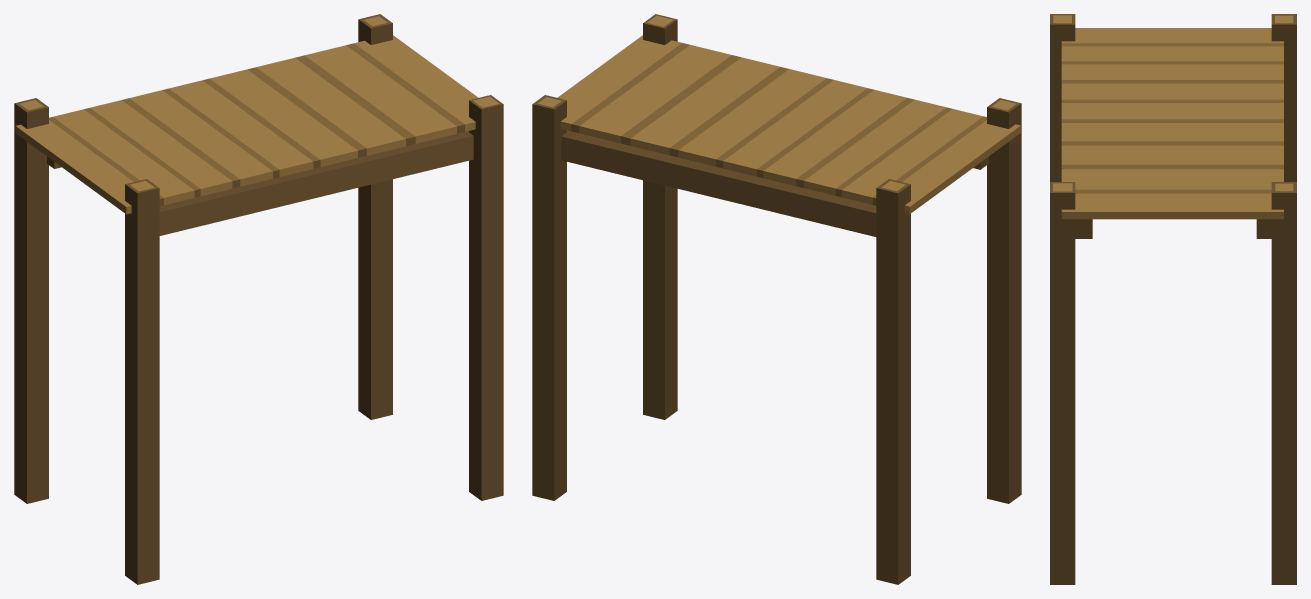
Rendered from Walkway_01.fbx.
3 renders of one model, left to right at view 1: azimuth 30°, elevation 25°; view 2: azimuth 150°, elevation 25°; view 3: azimuth 270°, elevation 25°, orthographic.
Parts seen in each view (by area): view 1: Walkway_01; view 2: Walkway_01; view 3: Walkway_01.
Part boxes in pixels (bbox=[...]): Walkway_01: bbox=[14, 14, 503, 584]; Walkway_01: bbox=[532, 14, 1021, 584]; Walkway_01: bbox=[1050, 14, 1296, 584].
Size of the model in its own units: 5.73 by 3.25 by 5.7.
